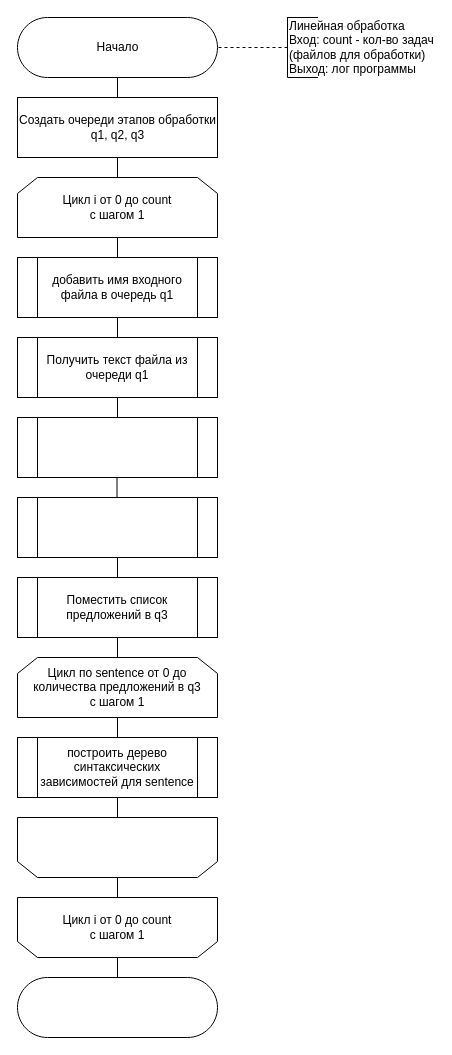
The diagram is 452 pixels wide and 1055 high, and some of its shapes have lost their labels. The box of each missing label's shape, as (x1, y1, x2, y2) in pixels:
Конец: (16, 976, 218, 1038)
Поместить текст в очередь q2: (16, 416, 218, 478)
Разбить текст из q2 на предложения: (16, 496, 218, 558)
Цикл по sentence от 0 до количества предложений c шагом 1: (16, 816, 218, 878)
